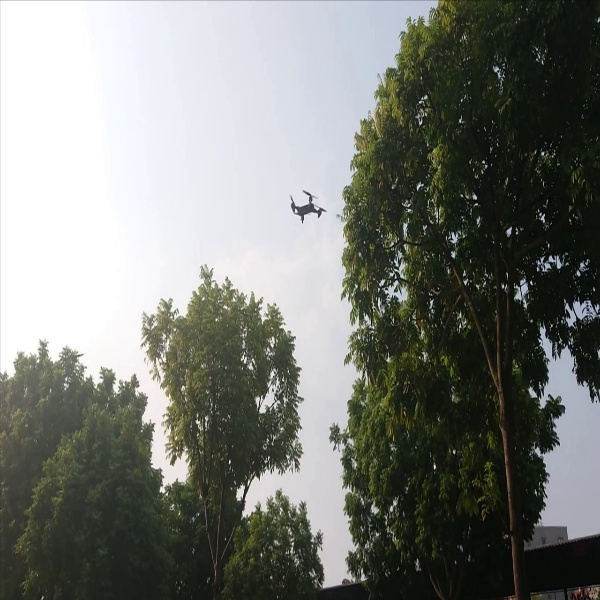drone: (282, 184, 330, 224)
